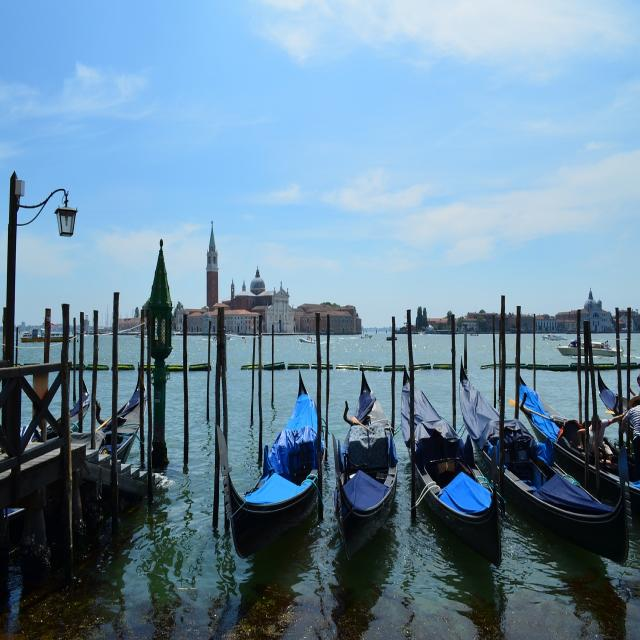boat: (459, 336, 637, 572), (214, 341, 327, 578), (400, 362, 504, 574), (334, 362, 405, 556)
